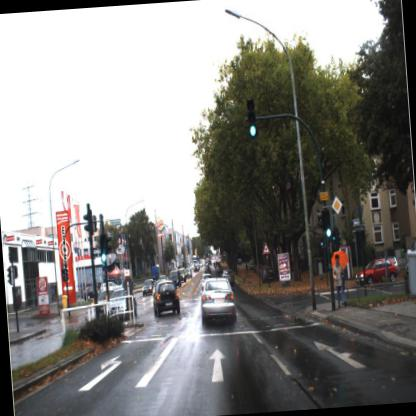danger: (260, 237, 274, 260)
other: (329, 195, 346, 218)
